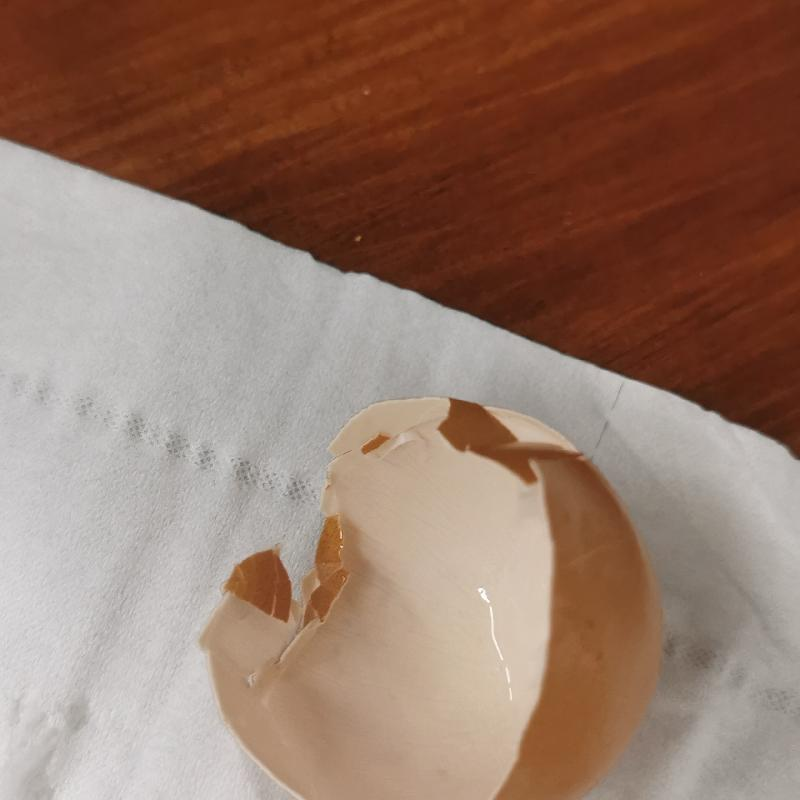eggshell: (196, 395, 667, 798)
